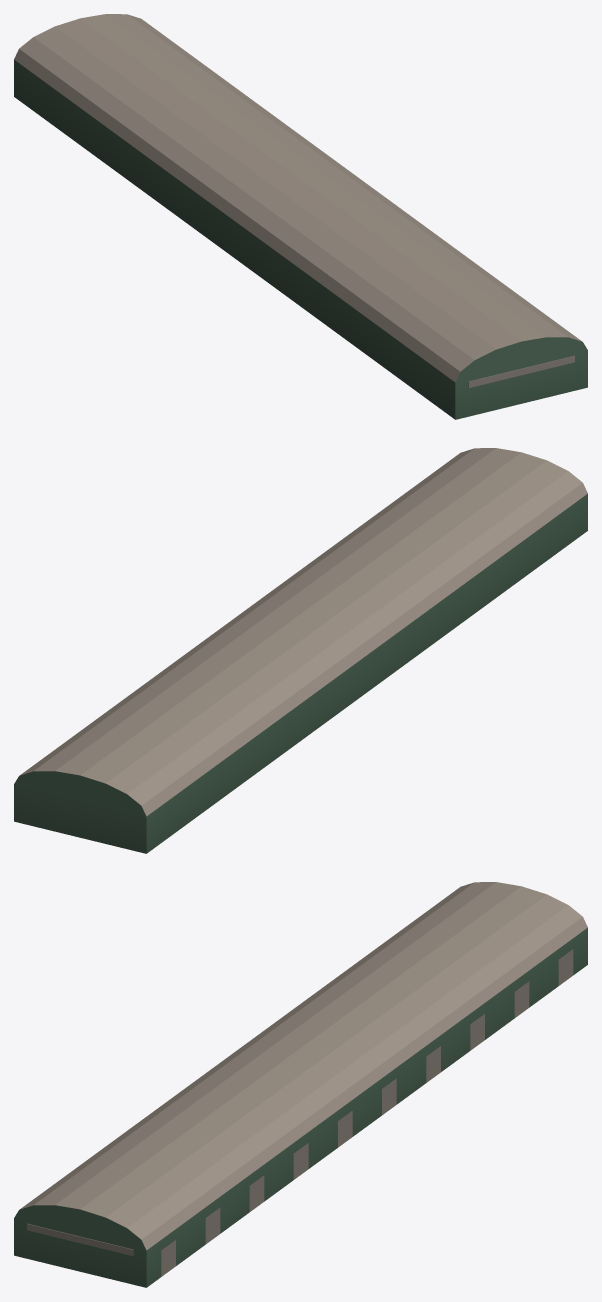
File: pier_shed_a.glb
3 renders of one model, top to bottom at view 1: azimuth 30°, elevation 25°; view 2: azimuth 150°, elevation 25°; view 3: azimuth 330°, elevation 25°, orthographic.
Visible parts, largest first — view 1: pier_shed_a; view 2: pier_shed_a; view 3: pier_shed_a.
Boxes of the visible parts, box(x1,y1,x2,y2) form: pier_shed_a: box(14, 14, 587, 419); pier_shed_a: box(14, 448, 587, 853); pier_shed_a: box(14, 882, 587, 1287).
Size of the model in its own units: 26.02 by 11.68 by 150.
